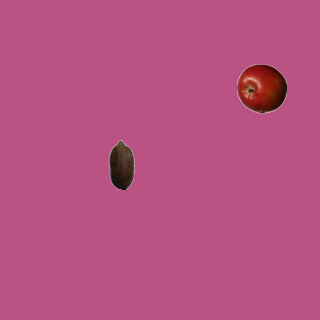Apple Braeburn: (236, 63, 286, 113)
Nut Pecan: (96, 139, 146, 189)
